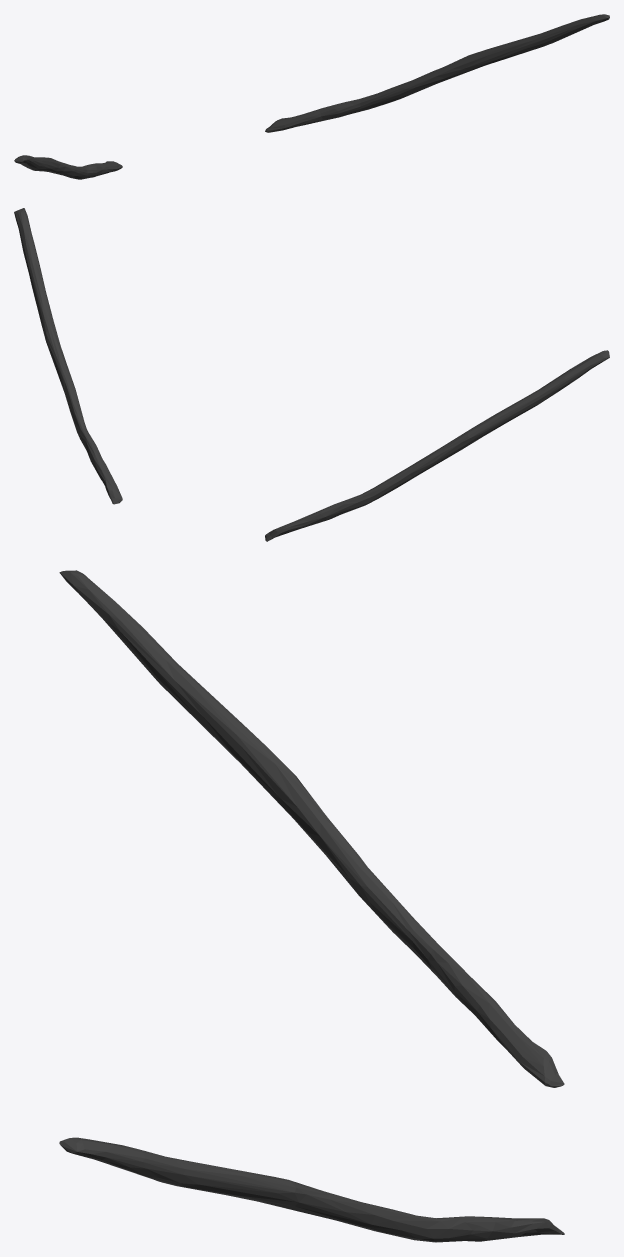
Rendered from lig_inguinal.glb.
The picture shows the model from 3 angles, top to bottom: view 1: azimuth 30°, elevation 25°; view 2: azimuth 150°, elevation 25°; view 3: azimuth 270°, elevation 25°; orthographic projection. The views are drawn at different scales.
Visible parts, largest first — view 1: lig_inguinal; view 2: lig_inguinal; view 3: lig_inguinal.
Boxes of the visible parts, x1=… form: lig_inguinal: x1=14, y1=14, x2=609, y2=179; lig_inguinal: x1=14, y1=208, x2=609, y2=541; lig_inguinal: x1=59, y1=570, x2=564, y2=1242.
Size of the model in its own units: 0.00773 by 0.00189 by 0.00284.
1 material, 1 textured.
